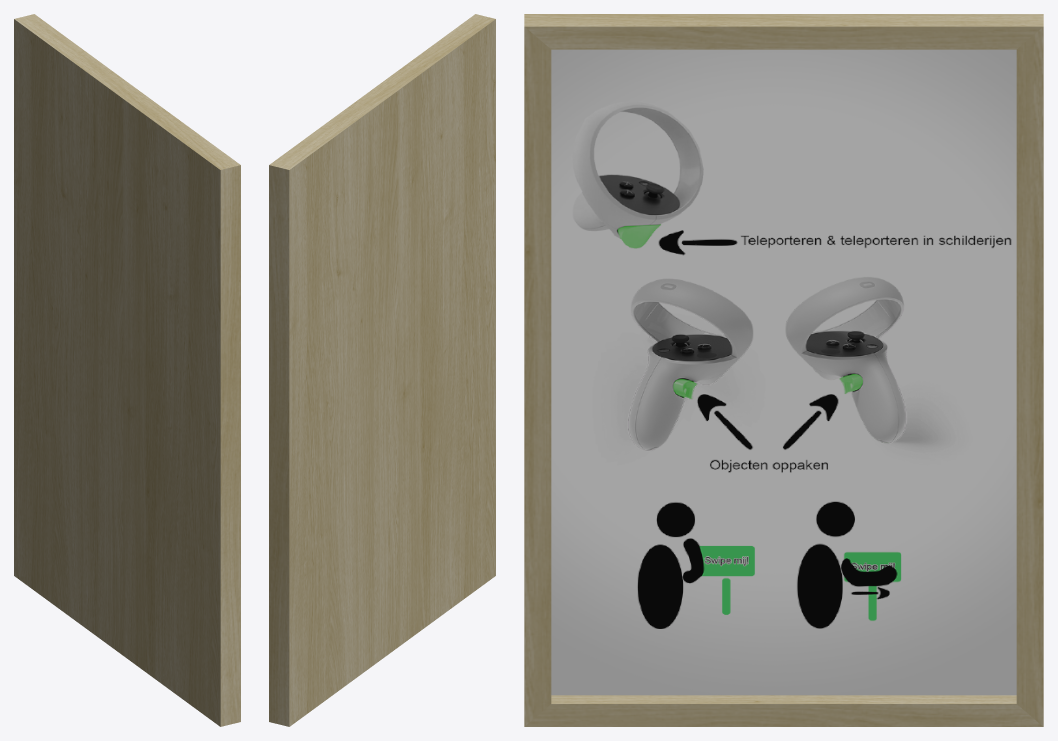
The model's file is Tutorial Schilderij Main Controls.fbx.
3 renders of one model, left to right at view 1: azimuth 30°, elevation 25°; view 2: azimuth 150°, elevation 25°; view 3: azimuth 270°, elevation 25°, orthographic. The views are drawn at different scales.
Parts seen in each view (by area): view 1: Tutorial schilderij; view 2: Tutorial schilderij; view 3: Tutorial schilderij.
Boxes of the visible parts, <box> form: Tutorial schilderij: <box>14,14,240,726</box>; Tutorial schilderij: <box>269,14,495,726</box>; Tutorial schilderij: <box>524,14,1043,726</box>.
Bounding box in the file's own units: 7.68 × 200 × 134.
1 material, 1 textured.
